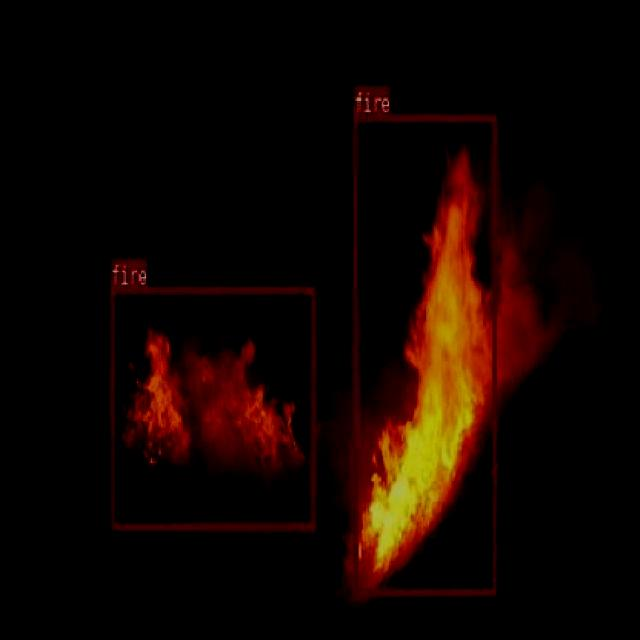fire: (352, 113, 496, 595), (109, 286, 314, 528)
